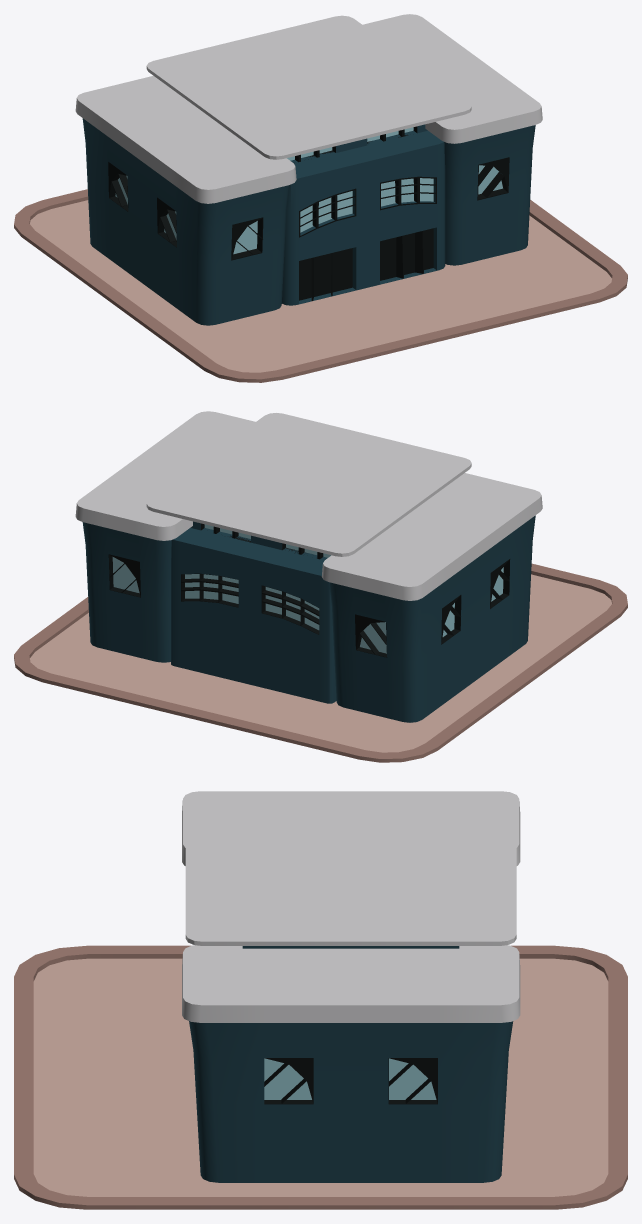
File: Humanas_Level_01.fbx
The picture shows the model from 3 angles, top to bottom: view 1: azimuth 30°, elevation 25°; view 2: azimuth 150°, elevation 25°; view 3: azimuth 270°, elevation 25°; orthographic projection. The views are drawn at different scales.
Visible parts, largest first — view 1: Humanas_Level_01; view 2: Humanas_Level_01; view 3: Humanas_Level_01.
Part boxes in pixels (x1,y1,x2,y2): Humanas_Level_01: [14, 14, 627, 382]; Humanas_Level_01: [14, 411, 627, 762]; Humanas_Level_01: [14, 791, 627, 1209].
Size of the model in its own units: 2000 by 727 by 2000.
